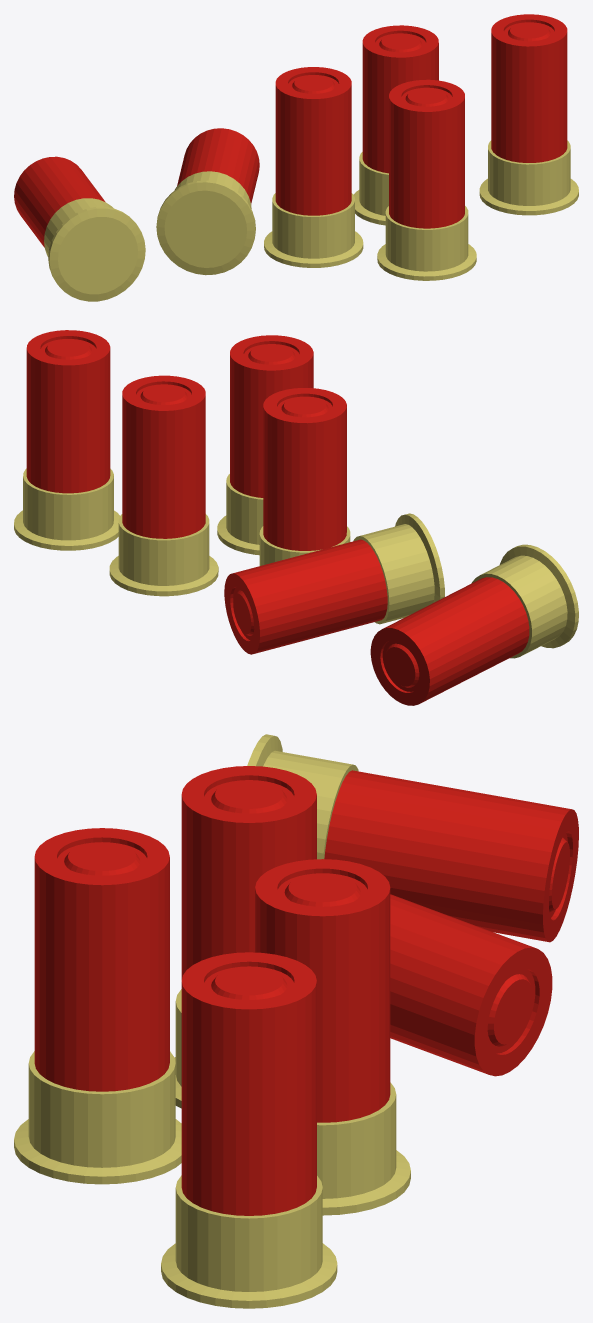
Rendered from Shotgun Shells.fbx.
3 views of the same model, one above another, from view 1: azimuth 30°, elevation 25°; view 2: azimuth 150°, elevation 25°; view 3: azimuth 270°, elevation 25° (orthographic). The views are drawn at different scales.
Visible parts, largest first — view 1: Ammo Shotgun Shells; view 2: Ammo Shotgun Shells; view 3: Ammo Shotgun Shells.
Boxes of the visible parts, left/top/right/bottom form: Ammo Shotgun Shells: left=14, top=14, right=578, bottom=301; Ammo Shotgun Shells: left=14, top=330, right=578, bottom=705; Ammo Shotgun Shells: left=14, top=734, right=578, bottom=1308.
Size of the model in its own units: 41.33 by 12.69 by 22.13.
